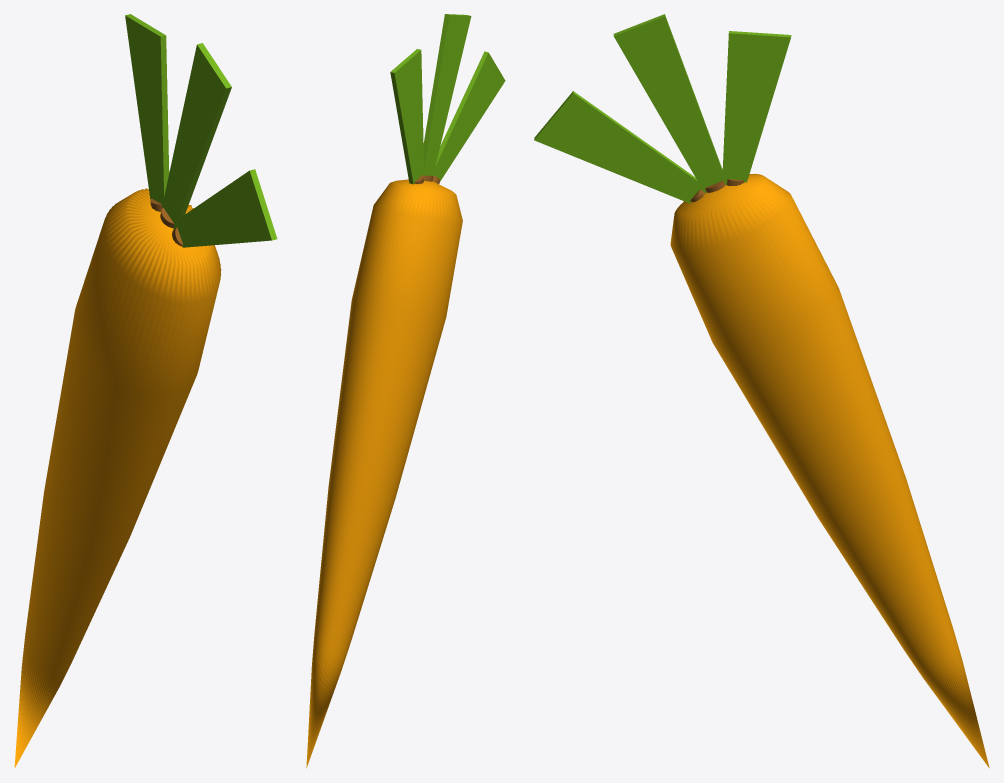
The model's file is cenoura.fbx.
3 renders of one model, left to right at view 1: azimuth 30°, elevation 25°; view 2: azimuth 150°, elevation 25°; view 3: azimuth 270°, elevation 25°, orthographic. The views are drawn at different scales.
Parts seen in each view (by area): view 1: base, folha1, folha1.002, folha1.001; view 2: base, folha1, folha1.001, folha1.002; view 3: base, folha1, folha1.001, folha1.002.
Part boxes in pixels (left/top/right/bottom): base: left=14, top=188, right=221, bottom=767; folha1: left=162, top=43, right=231, bottom=229; folha1.002: left=125, top=14, right=169, bottom=206; folha1.001: left=175, top=169, right=277, bottom=247; base: left=306, top=179, right=462, bottom=768; folha1: left=423, top=14, right=471, bottom=175; folha1.001: left=433, top=51, right=505, bottom=180; folha1.002: left=390, top=49, right=423, bottom=184; base: left=670, top=173, right=989, bottom=768; folha1: left=613, top=14, right=722, bottom=187; folha1.001: left=534, top=91, right=706, bottom=203; folha1.002: left=722, top=31, right=791, bottom=185.
Size of the model in its own units: 30.44 by 246 by 135.
